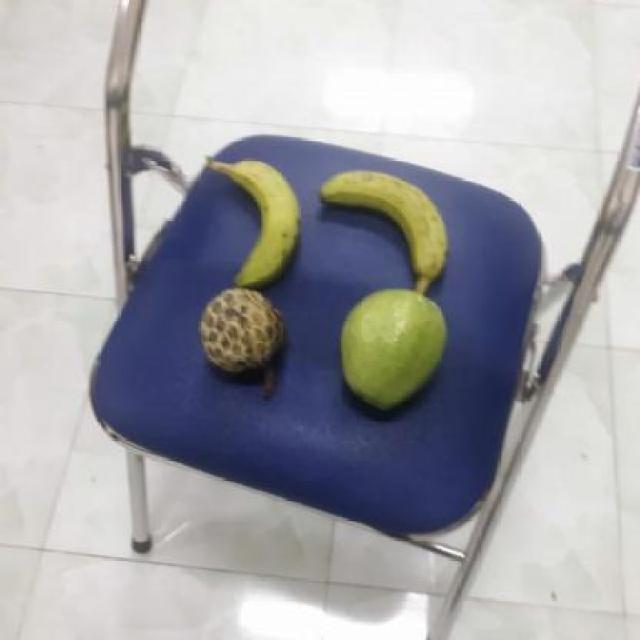banana: (318, 170, 456, 288), (212, 158, 306, 290)
guava: (339, 288, 453, 410)
sugar apple: (198, 288, 290, 378)
